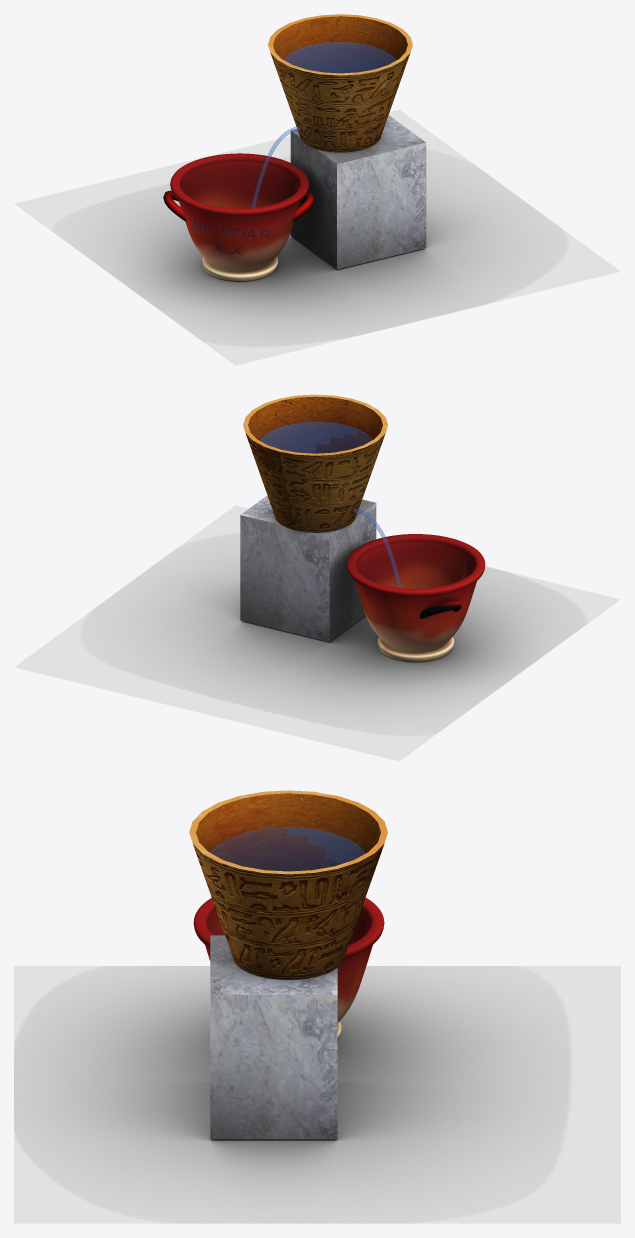
Rendered from clepsidra.FBX.
The picture shows the model from 3 angles, top to bottom: view 1: azimuth 30°, elevation 25°; view 2: azimuth 150°, elevation 25°; view 3: azimuth 270°, elevation 25°; orthographic projection. The views are drawn at different scales.
Visible parts, largest first — view 1: Plane001; view 2: Plane001; view 3: Plane001.
Part boxes in pixels (x1,y1,x2,y2): Plane001: [14, 14, 620, 365]; Plane001: [14, 394, 620, 761]; Plane001: [14, 790, 620, 1223].
Bounding box in the file's own units: 114 × 55.91 × 114.
6 materials, 5 textured.
